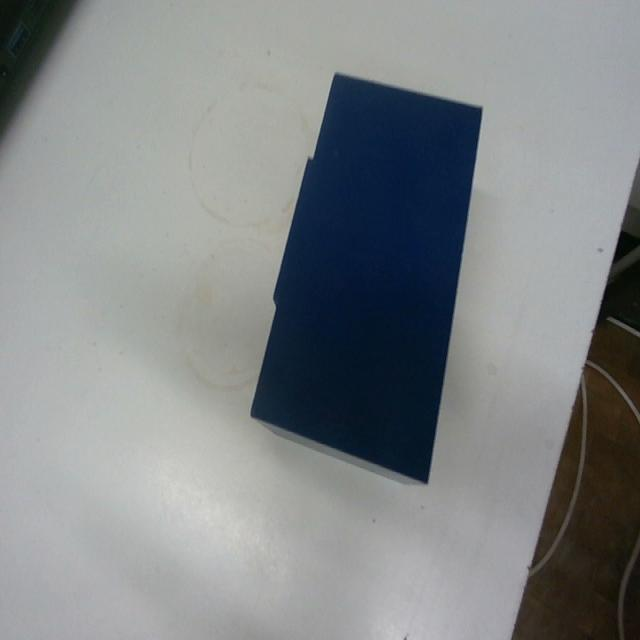Blue Cuboid: (248, 68, 483, 487)
